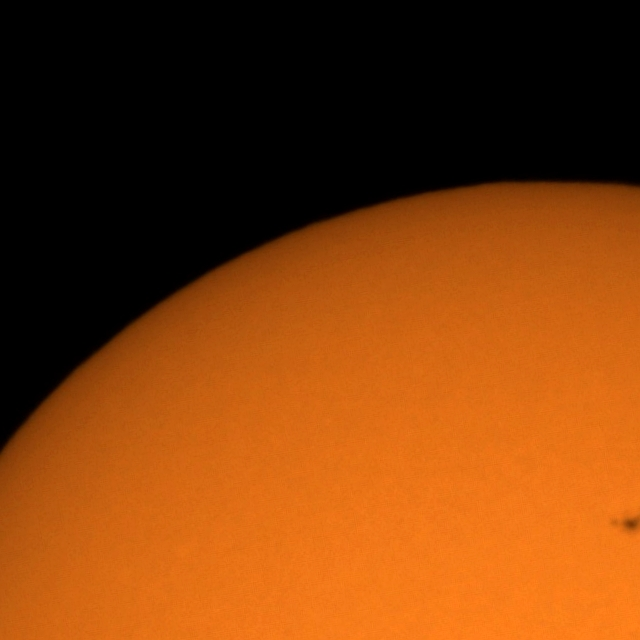sunspot: (610, 512, 640, 538)
